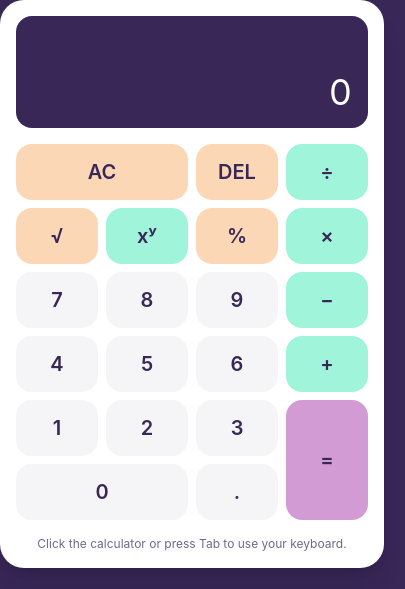
Calculator › accepts keyboard input while the calculator is focused
Step 1. Click the element "calculator" → (192, 534), box [0,0,384,568]
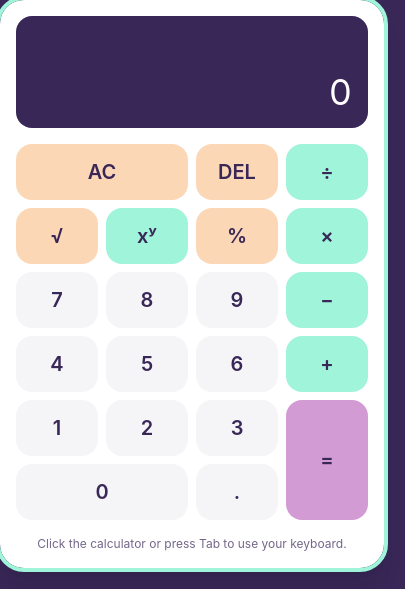
Step 2. Type keys "12*2{Enter}"
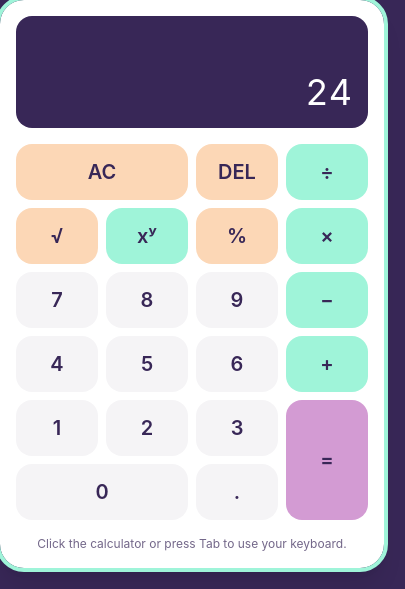
Expected: the text "24" is shown, [305,70,352,114]
